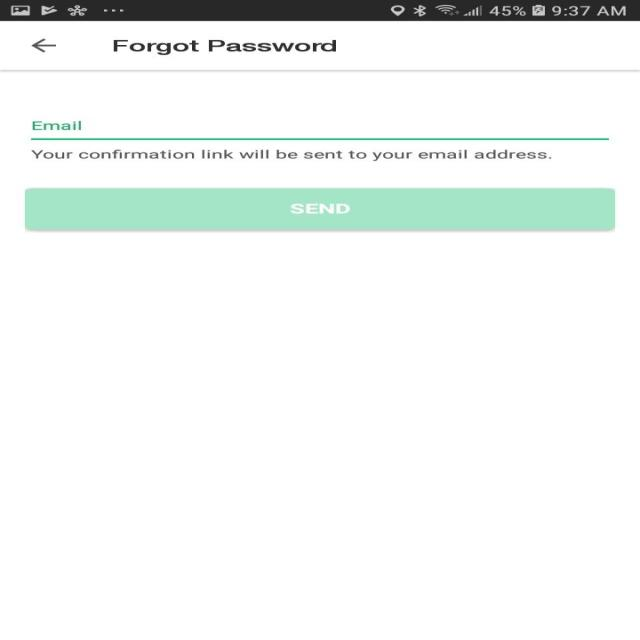EditText: (30, 120, 609, 140)
Icon: (30, 38, 57, 53)
Text: (30, 149, 551, 161), (113, 39, 336, 56), (32, 121, 82, 130)
TextButton: (24, 188, 614, 230)
